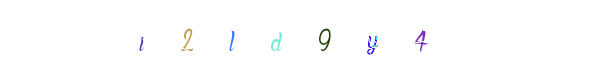2: (251, 0, 331, 80)
4: (314, 0, 394, 80)
9: (277, 0, 357, 80)
D: (274, 0, 354, 80)
I: (185, 0, 265, 80)
L: (257, 0, 337, 80)
Y: (285, 0, 365, 80)
